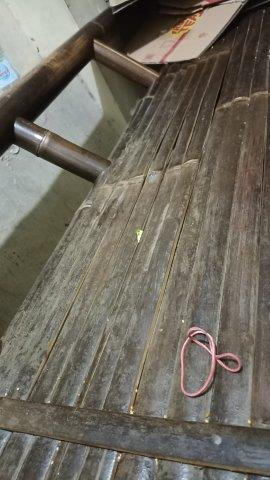karet: (180, 327, 242, 397)
